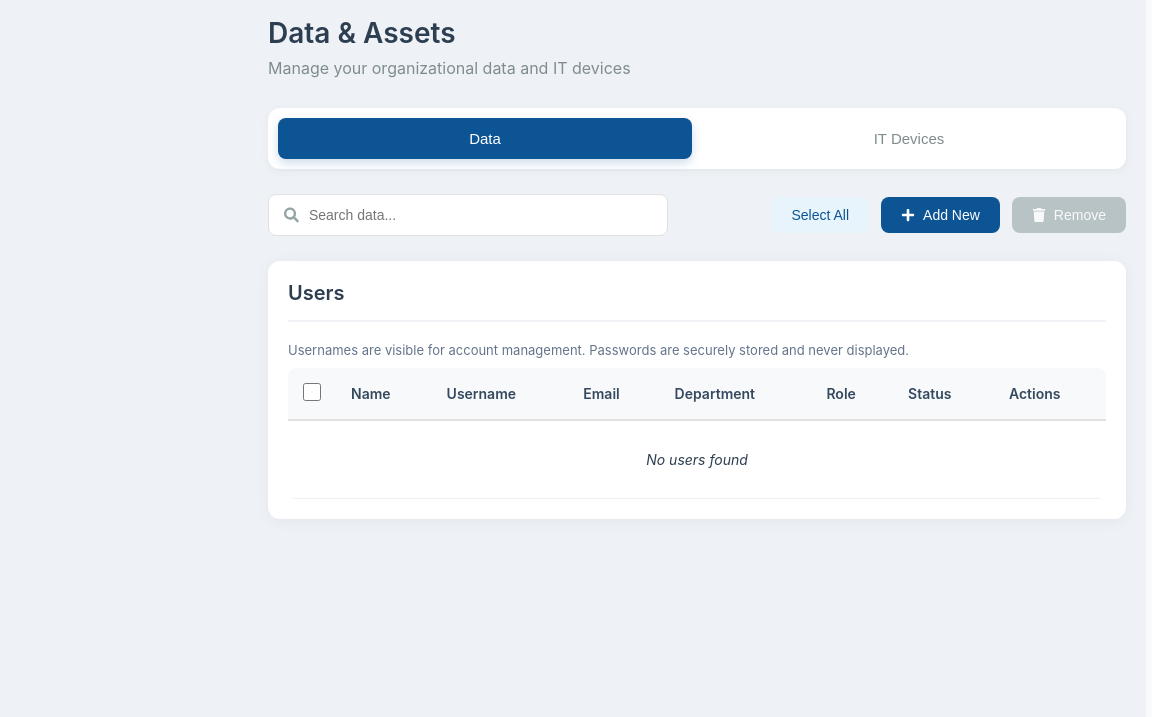
Scenario: keeps the editor and entered values when the server rejects an update
The width and height of the screenshot is (1152, 717).
Step 1. Click the button "IT Devices" → x=909, y=138, box [702,118,1116,159]
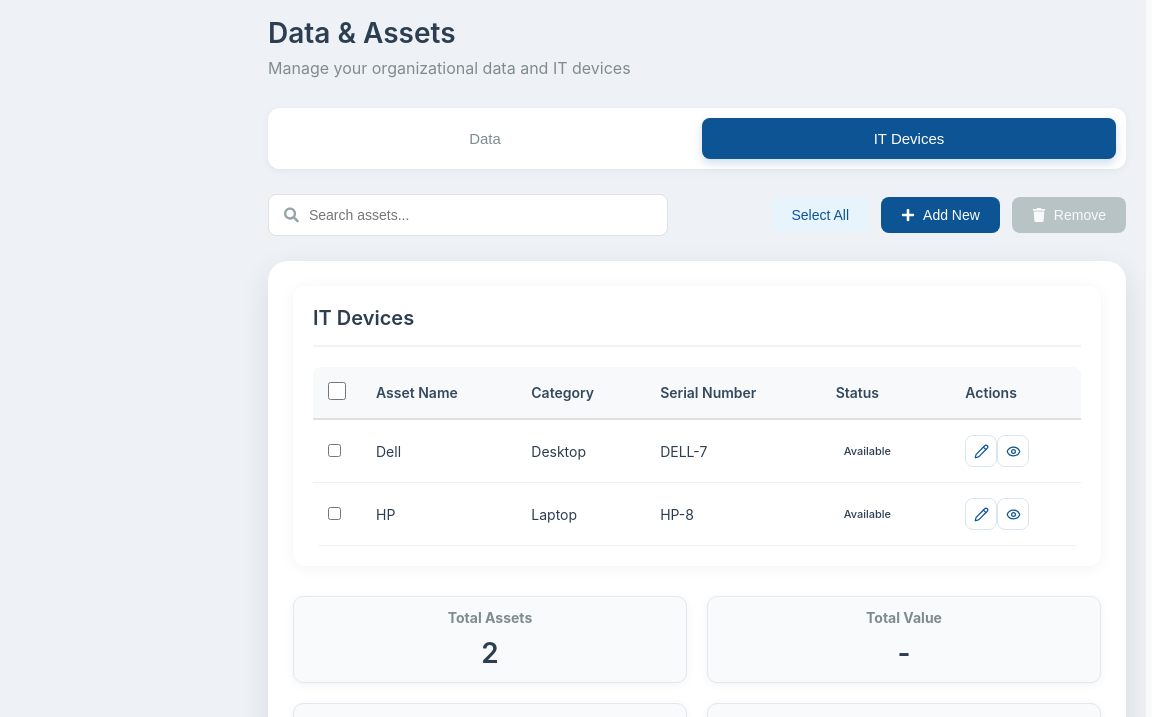
Result: the text "Dell" is shown at [361,419,516,482]
Step 2. Click the button named "Edit Dell" → x=981, y=451, box [965,435,997,467]
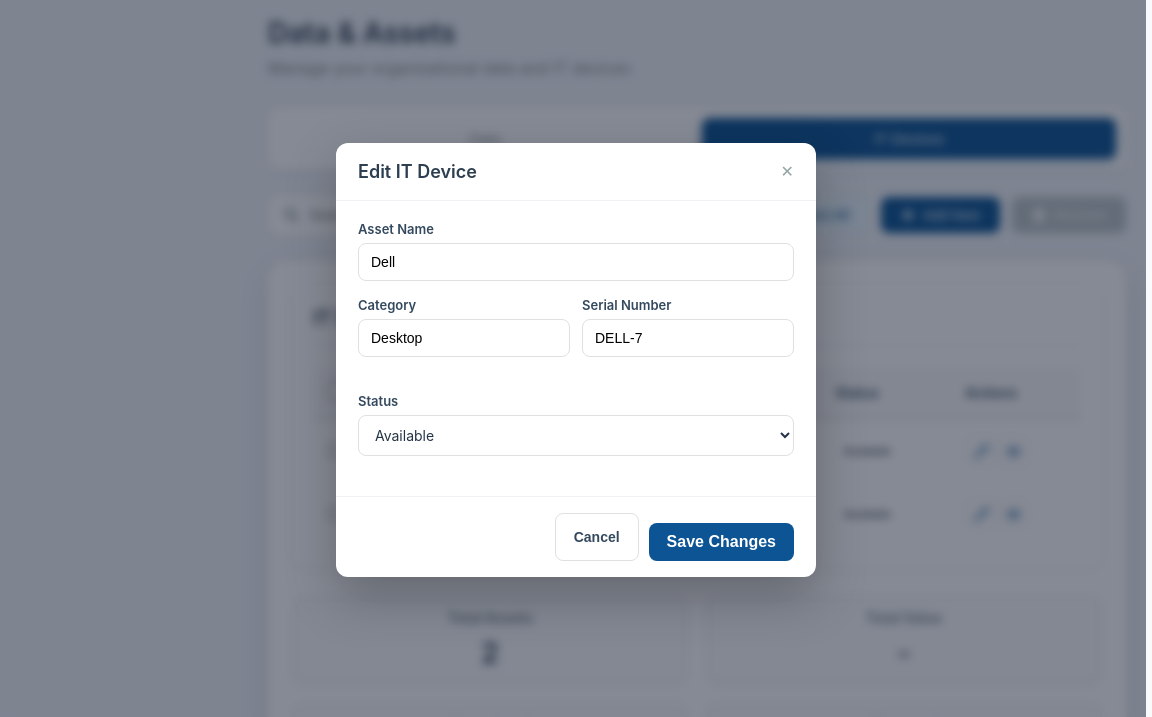
Step 3. Replace the text in the field labelled "Serial Number" with "NEW-SERIAL" → x=688, y=338, box [582,319,794,357]
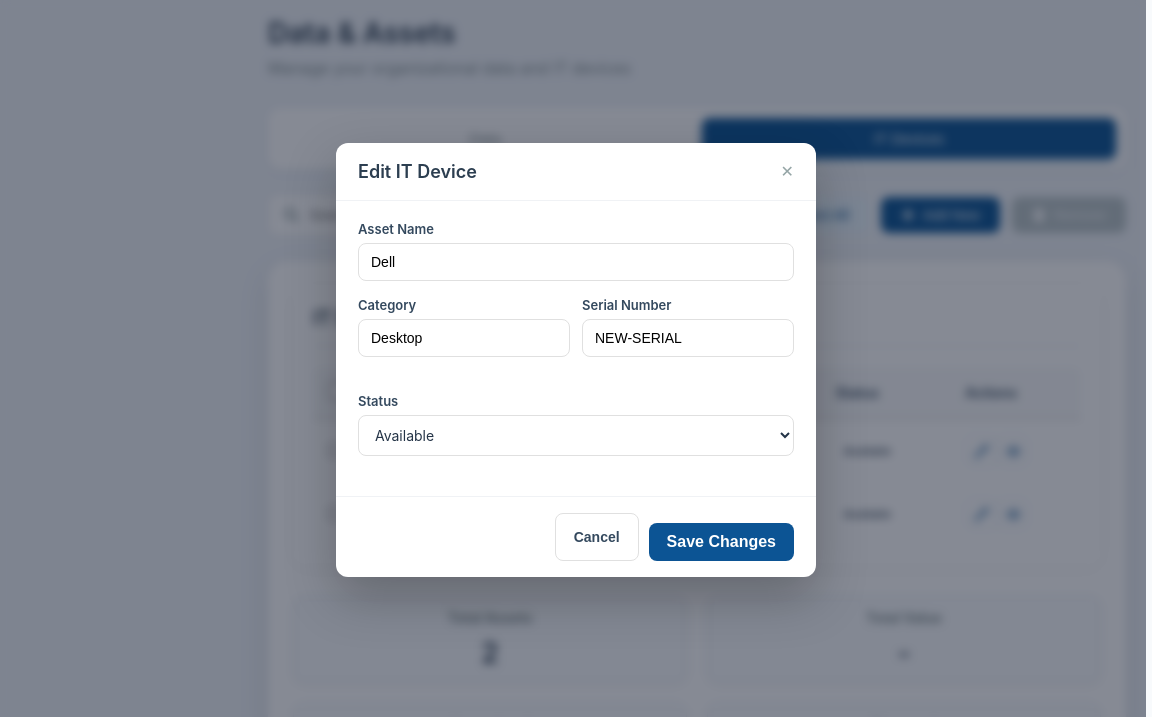
Step 4. Click the button "Save Changes" → x=721, y=542, box [649,523,794,561]
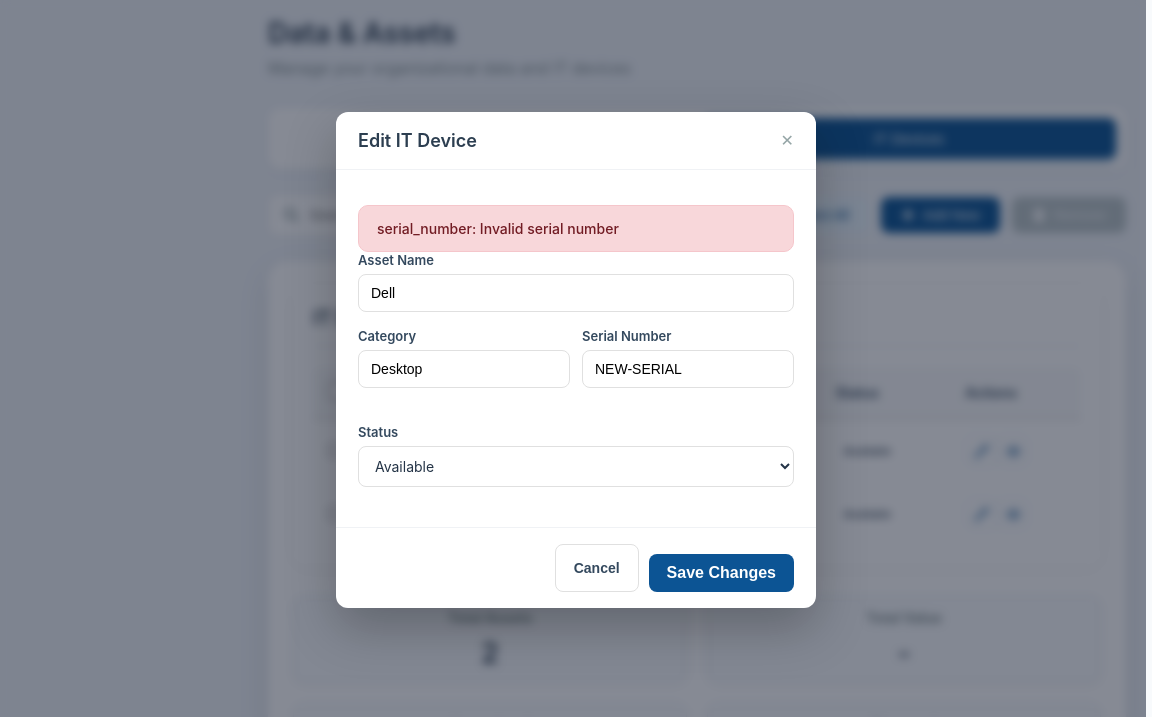
Result: the text "DELL-7" is shown at [645,419,821,482]
Result: the message reads "serial_number: Invalid serial number" at [377,220,619,237]
